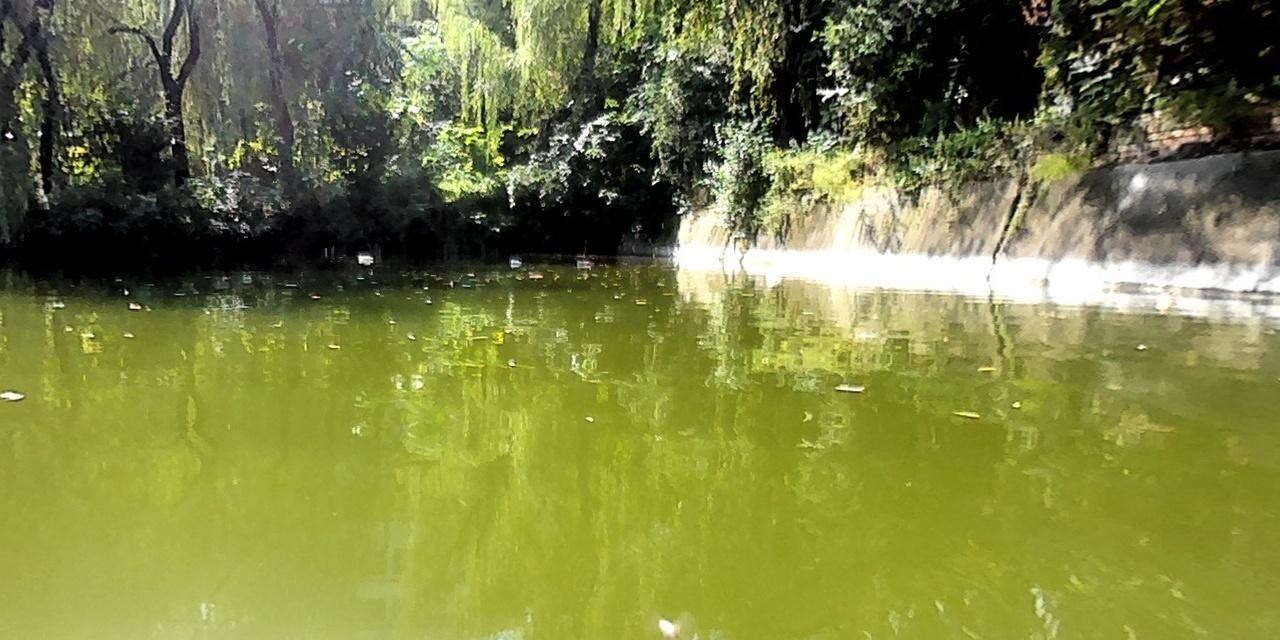bottle: (355, 252, 373, 265), (575, 257, 595, 268), (508, 257, 523, 264)
